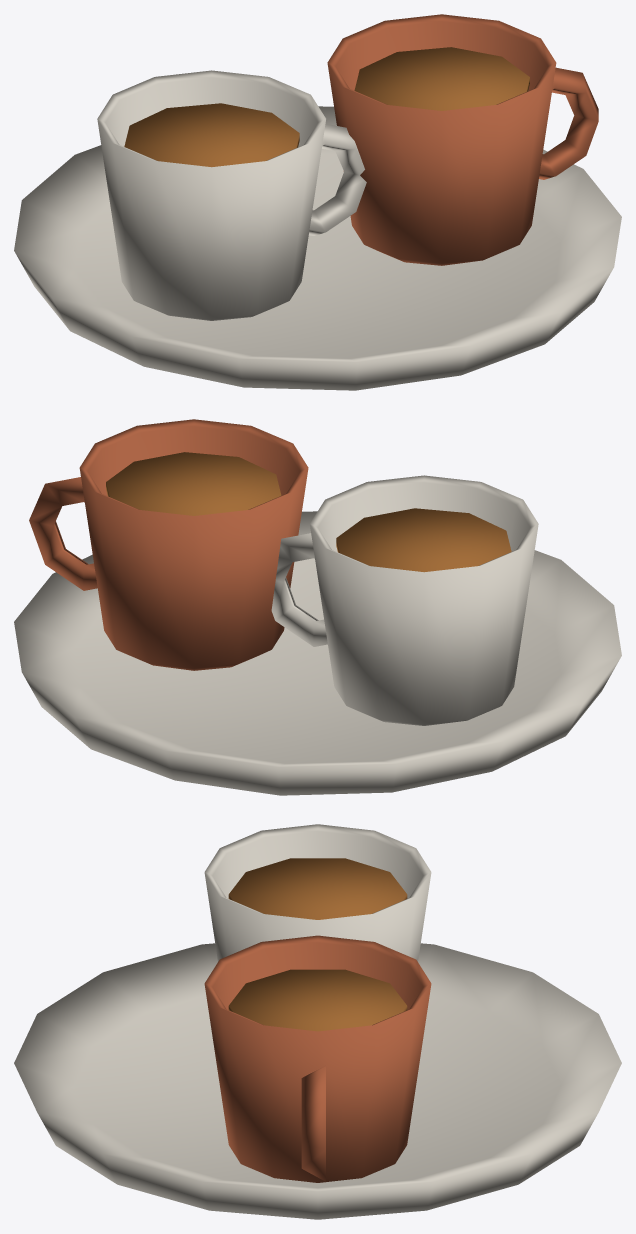
File: espresso_cups.glb
The picture shows the model from 3 angles, top to bottom: view 1: azimuth 30°, elevation 25°; view 2: azimuth 150°, elevation 25°; view 3: azimuth 270°, elevation 25°; orthographic projection.
Visible parts, largest first — view 1: espresso_cups; view 2: espresso_cups; view 3: espresso_cups.
Boxes of the visible parts, x1=… form: espresso_cups: x1=14, y1=14, x2=621, y2=390; espresso_cups: x1=14, y1=419, x2=621, y2=795; espresso_cups: x1=14, y1=824, x2=621, y2=1219.
Size of the model in its own units: 0.1555 by 0.056 by 0.15.
